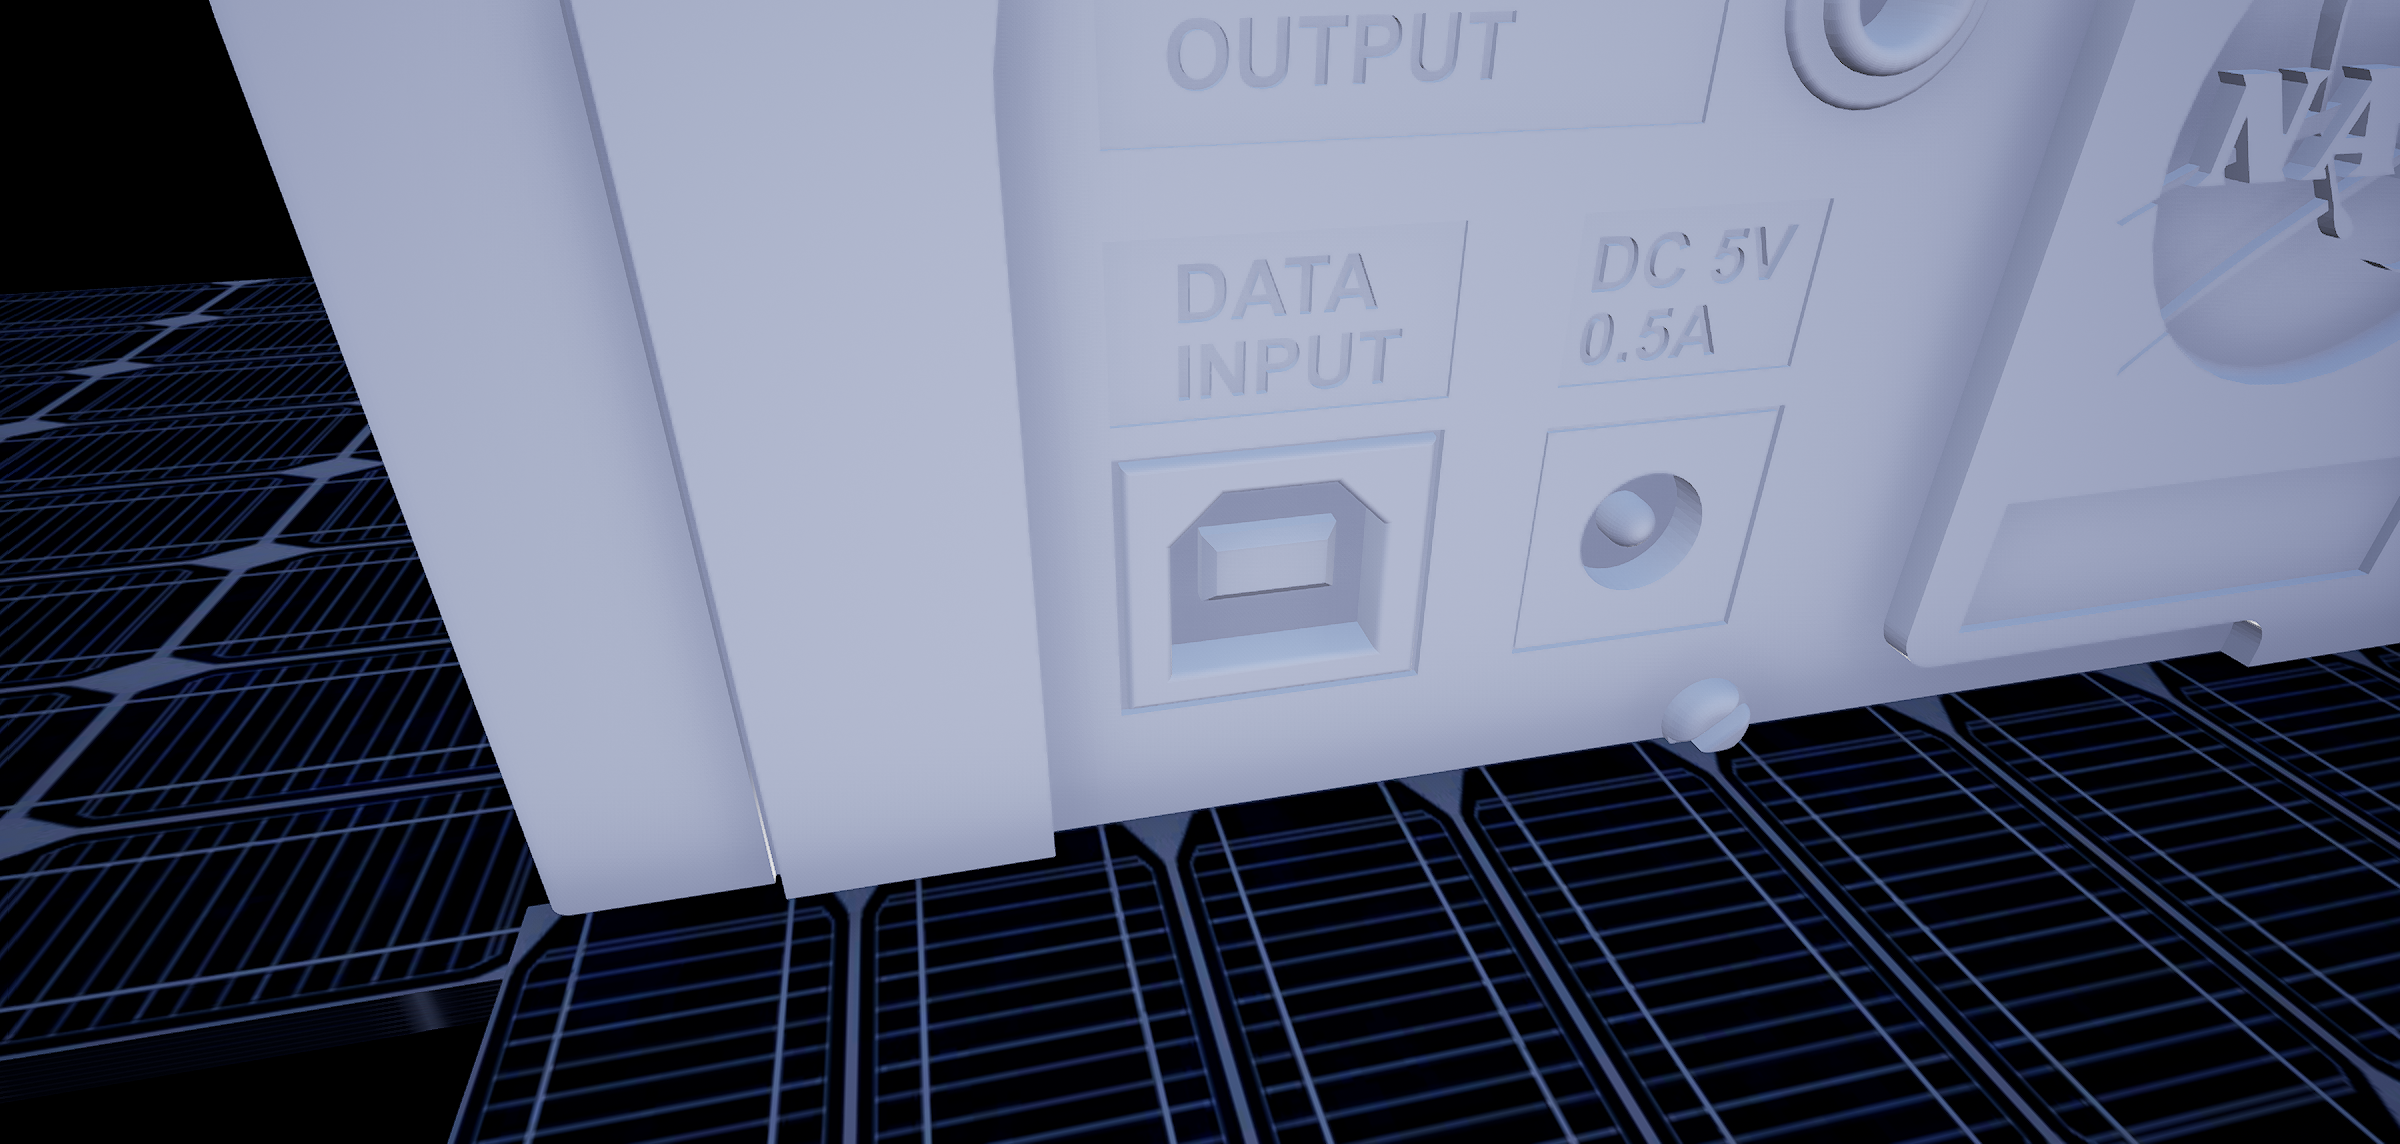aux: (1772, 2, 2014, 135)
dc: (1563, 466, 1717, 608)
usb: (1149, 482, 1396, 665)
